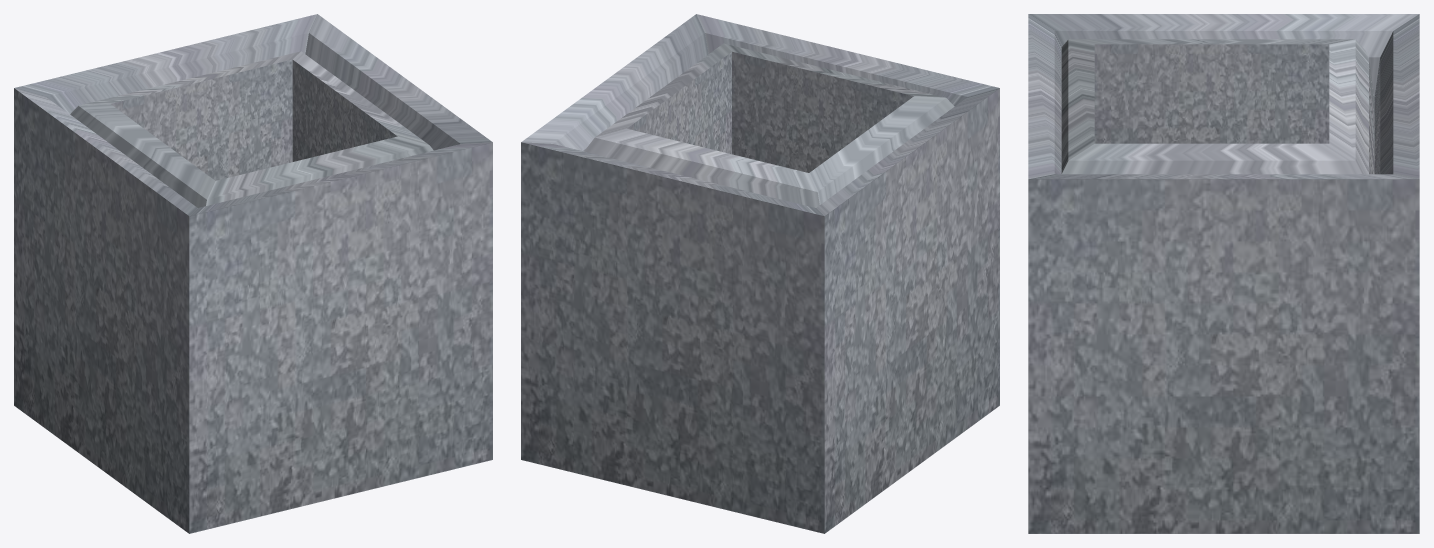
Rendered from Urn.FBX.
The picture shows the model from 3 angles, left to right: view 1: azimuth 30°, elevation 25°; view 2: azimuth 150°, elevation 25°; view 3: azimuth 270°, elevation 25°; orthographic projection. The views are drawn at different scales.
Visible parts, largest first — view 1: Box001; view 2: Box001; view 3: Box001.
Boxes of the visible parts, x1,y1,x2,y2 form: Box001: [14, 14, 492, 533]; Box001: [521, 14, 999, 533]; Box001: [1028, 14, 1419, 533].
Bounding box in the file's own units: 50 × 50 × 50.
